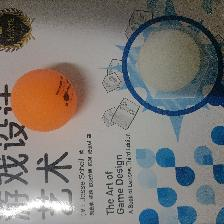WhiteBall: (136, 29, 200, 91)
YellowBall: (10, 69, 77, 132)
